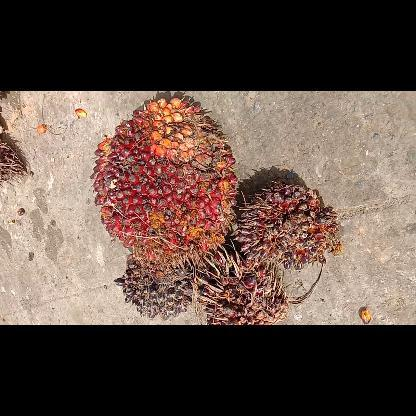TBS abnormal: (230, 180, 344, 268), (194, 250, 290, 324), (113, 253, 195, 321)
TBS masak: (88, 91, 238, 264)
